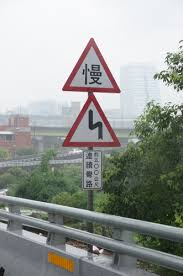Double_bend_left: (57, 93, 126, 149)
